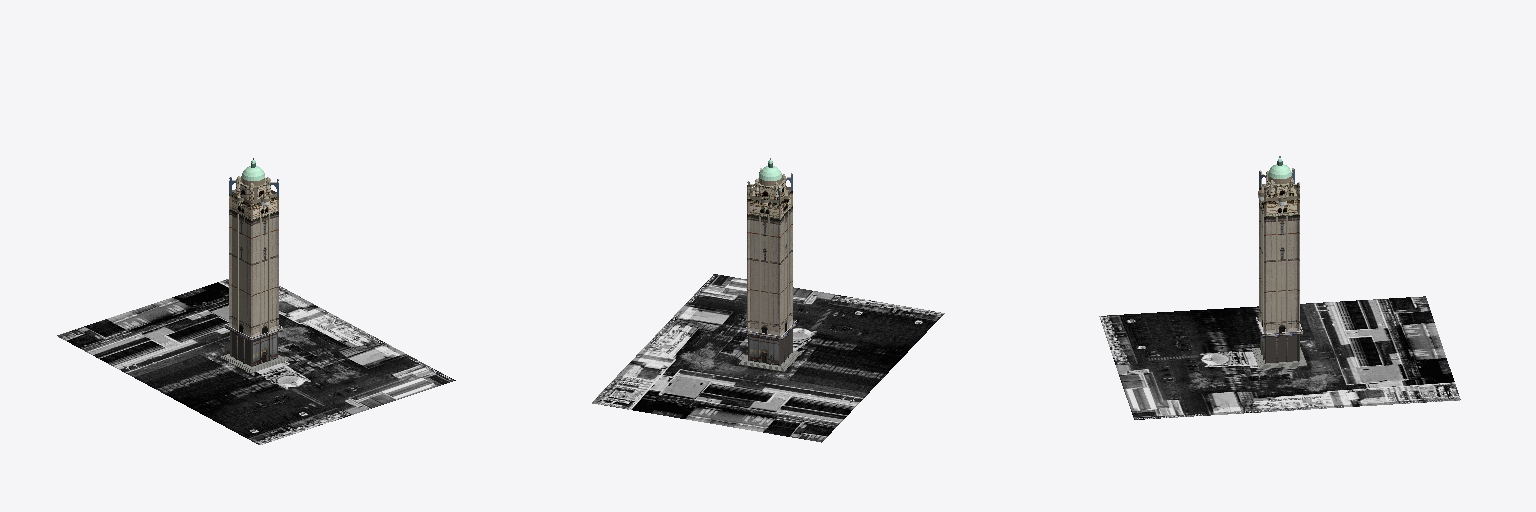
3 views of the same model, side by side, from view 1: azimuth 30°, elevation 25°; view 2: azimuth 150°, elevation 25°; view 3: azimuth 270°, elevation 25° (orthographic).
Visible parts, largest first — view 1: Mesh2 Google_Earth_Snapshot Queens_Tower__London1 Model, Mesh3 Queens_Tower__London1 Model; view 2: Mesh2 Google_Earth_Snapshot Queens_Tower__London1 Model, Mesh3 Queens_Tower__London1 Model; view 3: Mesh2 Google_Earth_Snapshot Queens_Tower__London1 Model, Mesh3 Queens_Tower__London1 Model.
Part boxes in pixels (x1,y1,x2,y2): Mesh2 Google_Earth_Snapshot Queens_Tower__London1 Model: (57, 279, 455, 444); Mesh3 Queens_Tower__London1 Model: (220, 158, 287, 372); Mesh2 Google_Earth_Snapshot Queens_Tower__London1 Model: (592, 274, 944, 442); Mesh3 Queens_Tower__London1 Model: (739, 158, 801, 371); Mesh2 Google_Earth_Snapshot Queens_Tower__London1 Model: (1099, 296, 1460, 419); Mesh3 Queens_Tower__London1 Model: (1252, 156, 1306, 368).
Bounding box in the file's own units: 114 × 88.09 × 141.
Materials: 55 (26 with a texture image).